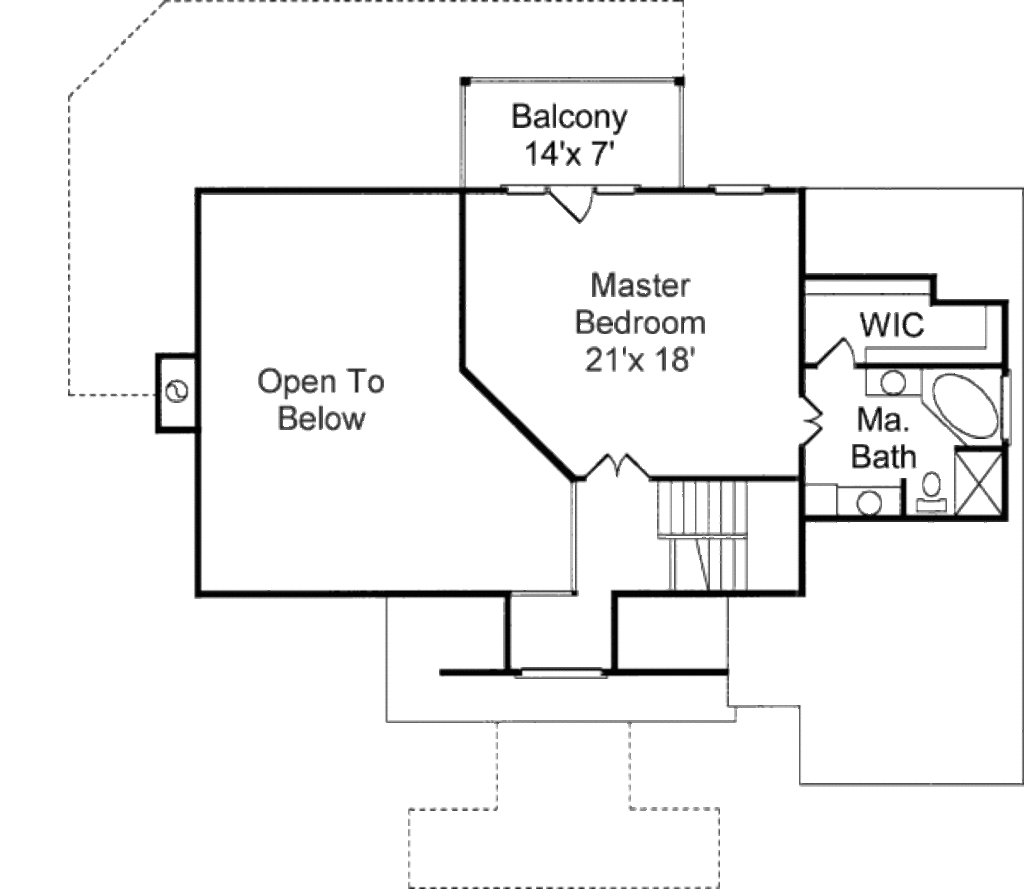door: (543, 178, 595, 226), (584, 452, 643, 483), (801, 394, 826, 447), (815, 338, 856, 369)
large_sink: (913, 468, 953, 516)
small_sink: (836, 484, 905, 521), (863, 364, 922, 403)
stairs: (651, 474, 758, 589)
tub: (926, 364, 998, 444)
windows: (515, 661, 604, 686), (706, 179, 771, 198)
